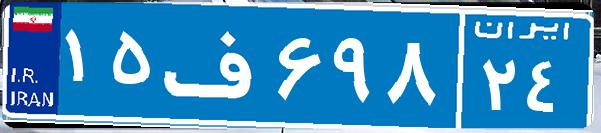1: (57, 26, 110, 107)
2: (475, 38, 525, 113)
4: (525, 38, 570, 115)
5: (110, 28, 158, 105)
6: (273, 28, 330, 110)
8: (385, 28, 445, 110)
9: (330, 28, 385, 110)
ف: (158, 15, 273, 115)
